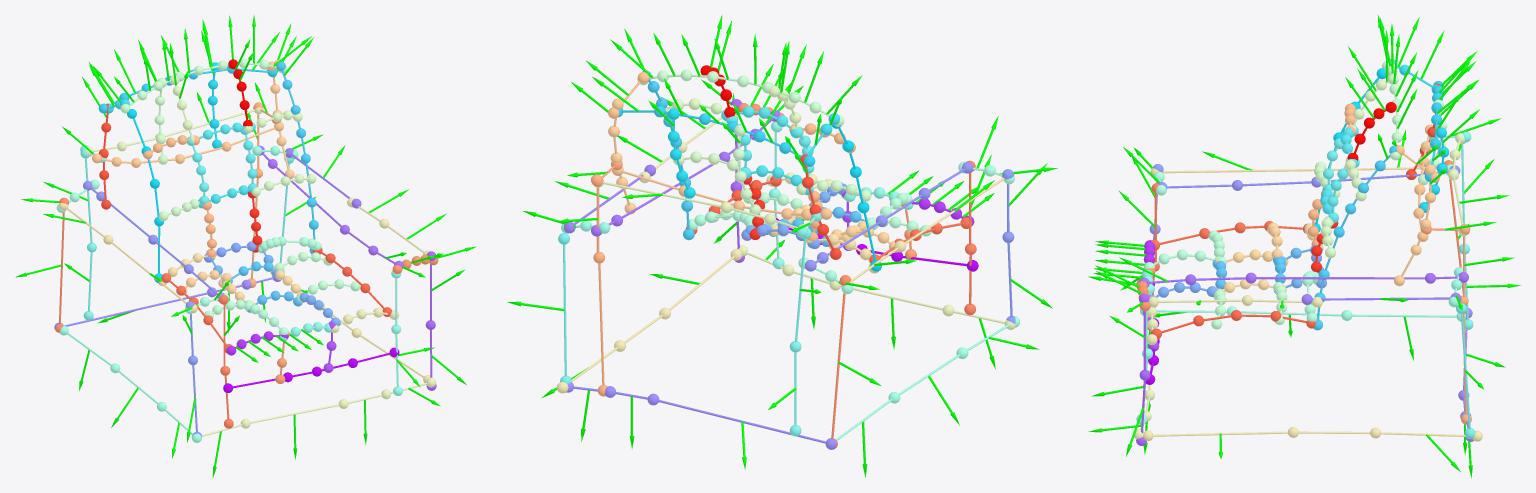
File: author2_sofa.gltf
3 views of the same model, side by side, from view 1: azimuth 30°, elevation 25°; view 2: azimuth 150°, elevation 25°; view 3: azimuth 270°, elevation 25° (orthographic). The views are drawn at different scales.
Size of the model in its own units: 0.7168 by 0.7703 by 0.7836.
